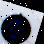Speed Limit -60-: (0, 9, 35, 44)
